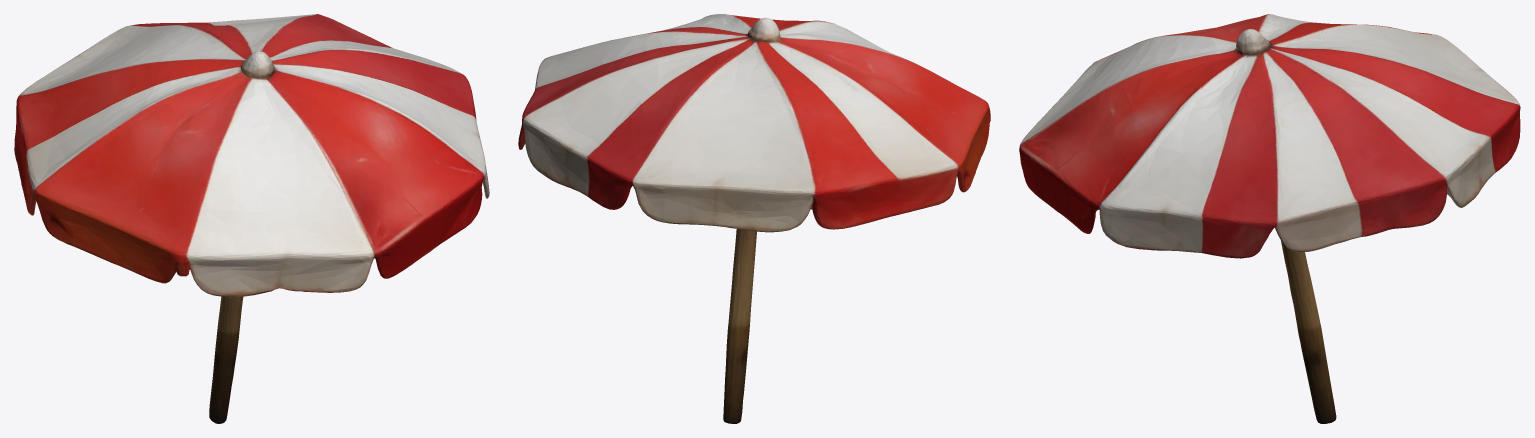
3 views of the same model, side by side, from view 1: azimuth 30°, elevation 25°; view 2: azimuth 150°, elevation 25°; view 3: azimuth 270°, elevation 25° (orthographic). The views are drawn at different scales.
Parts seen in each view (by area): view 1: world; view 2: world; view 3: world.
Boxes of the visible parts, x1,y1,x2,y2 form: world: (14,14,489,423); world: (518,14,990,423); world: (1019,14,1520,423).
Bounding box in the file's own units: 0.988 × 0.8596 × 0.9924.
1 material, 1 textured.
